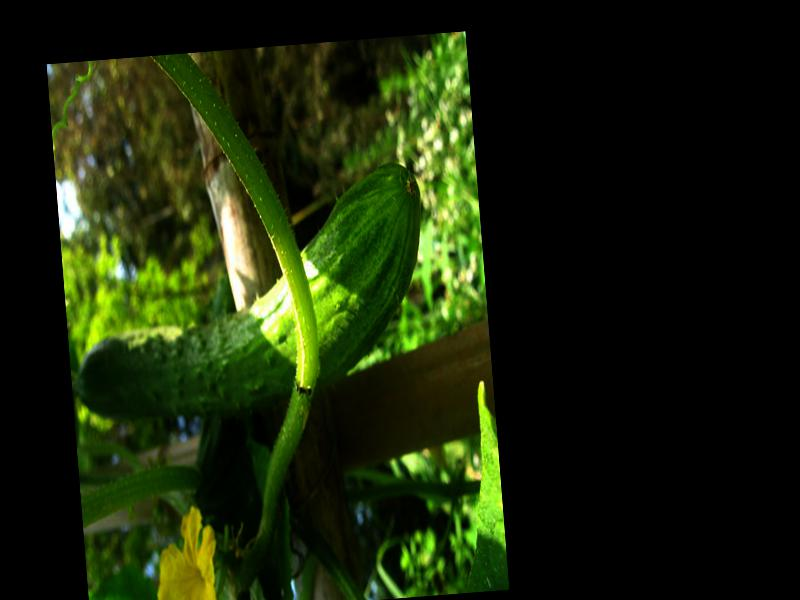Cucumber: (59, 164, 436, 426)
